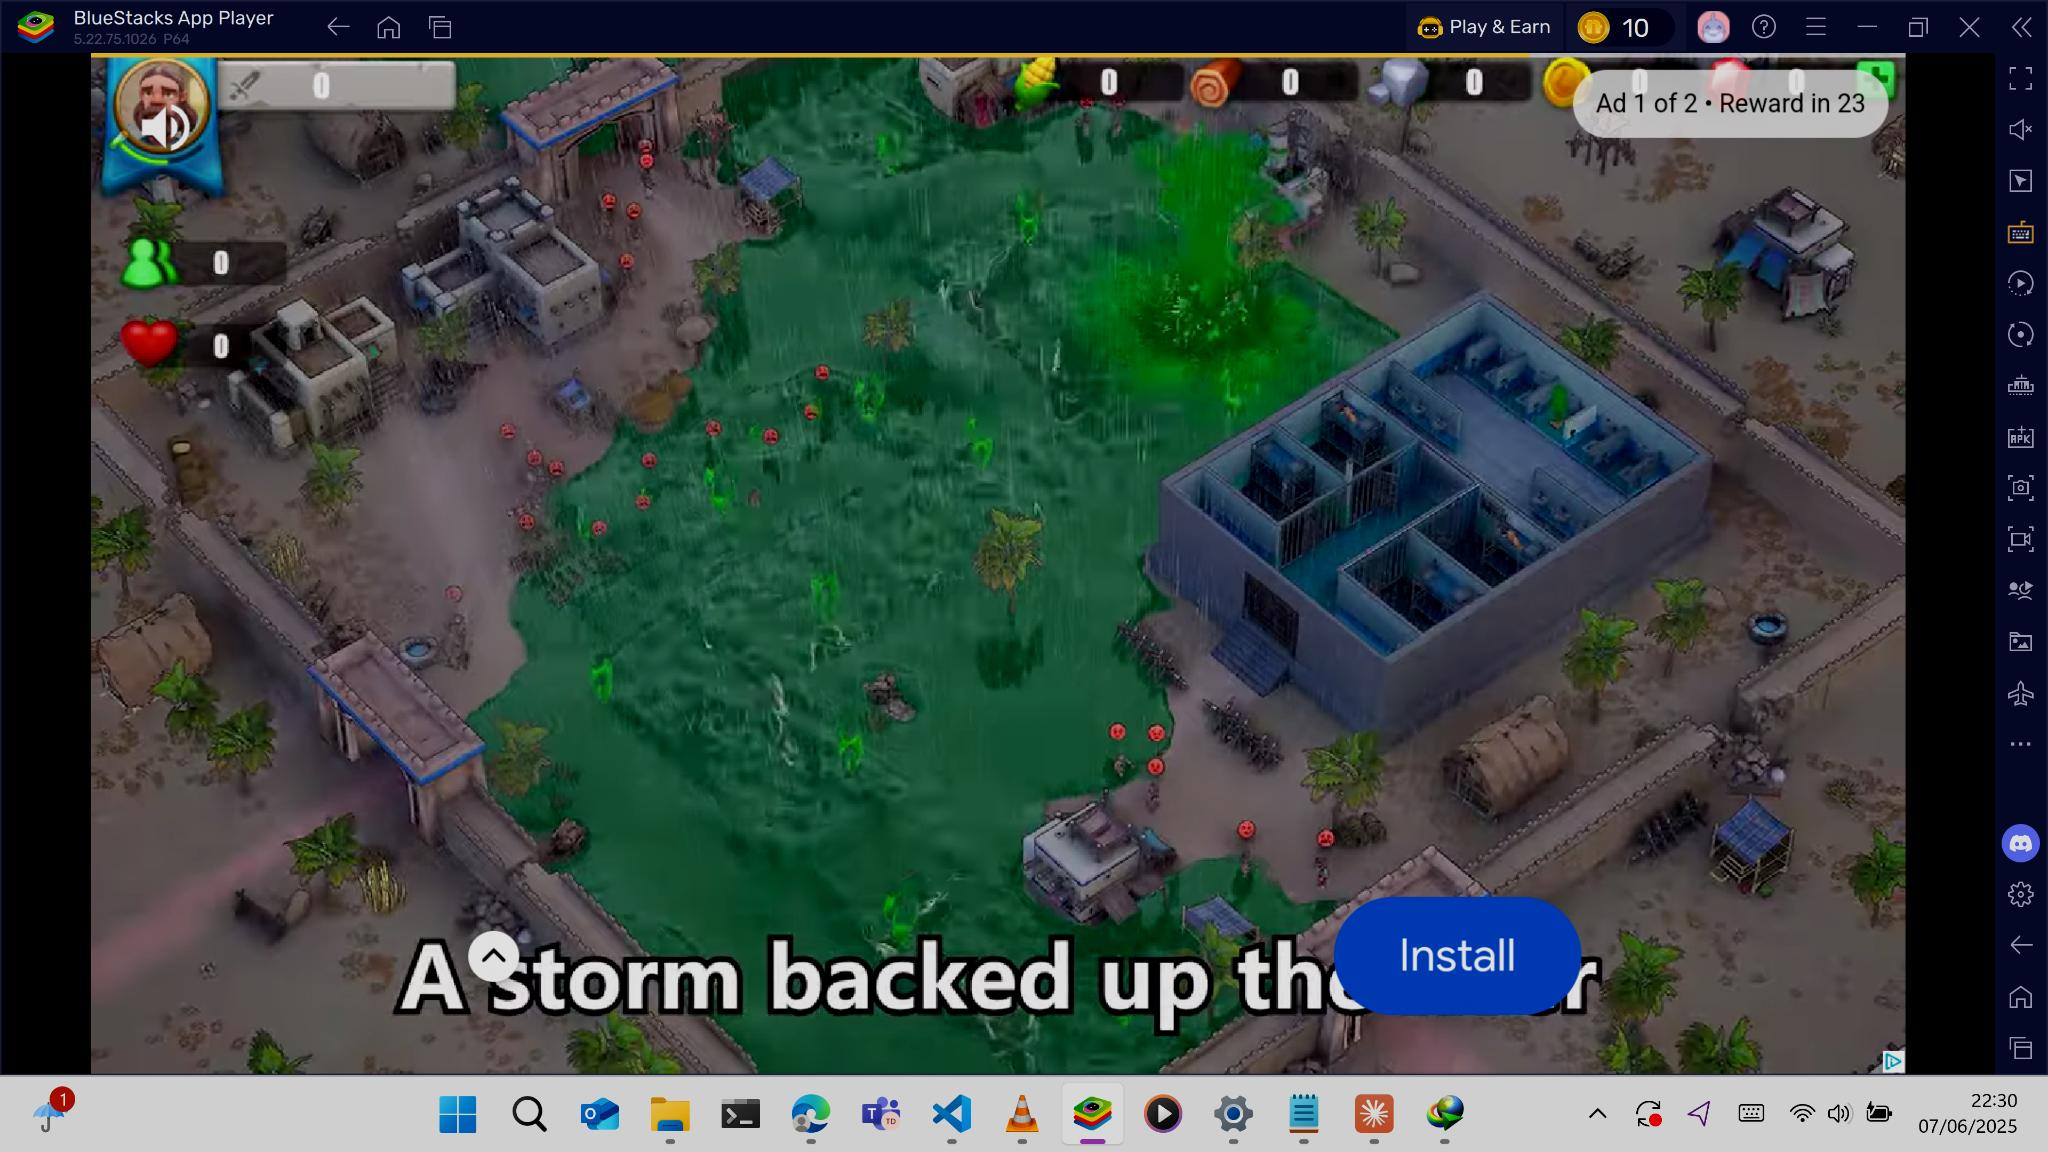windows_button: (436, 1093, 478, 1132)
